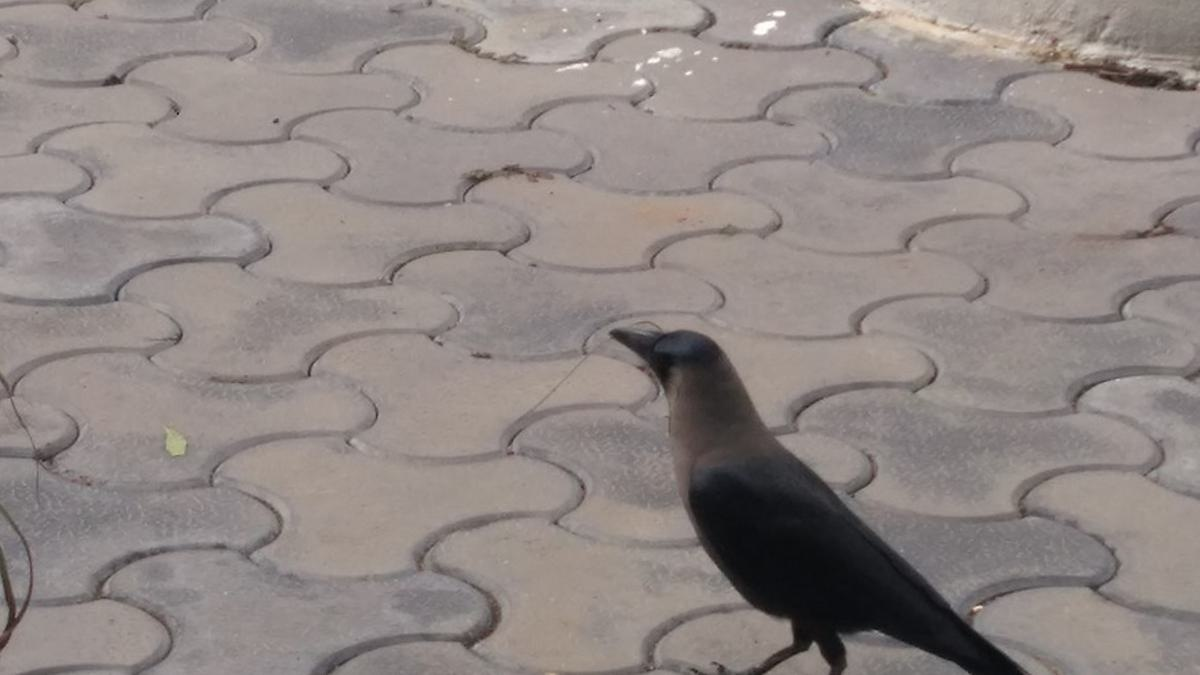crow: (603, 312, 1018, 675)
